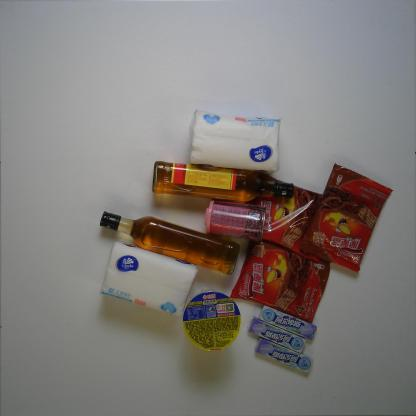Candy: (245, 316, 308, 354), (252, 339, 315, 374), (258, 306, 318, 341)
Canned Food: (205, 198, 267, 240)
Dessert: (298, 164, 394, 273), (242, 168, 337, 264), (230, 236, 330, 322)
Instant Noodles: (182, 290, 241, 351)
Seasoner: (97, 206, 241, 274), (146, 155, 294, 203)
Tissue: (99, 242, 197, 317), (185, 108, 283, 174)
